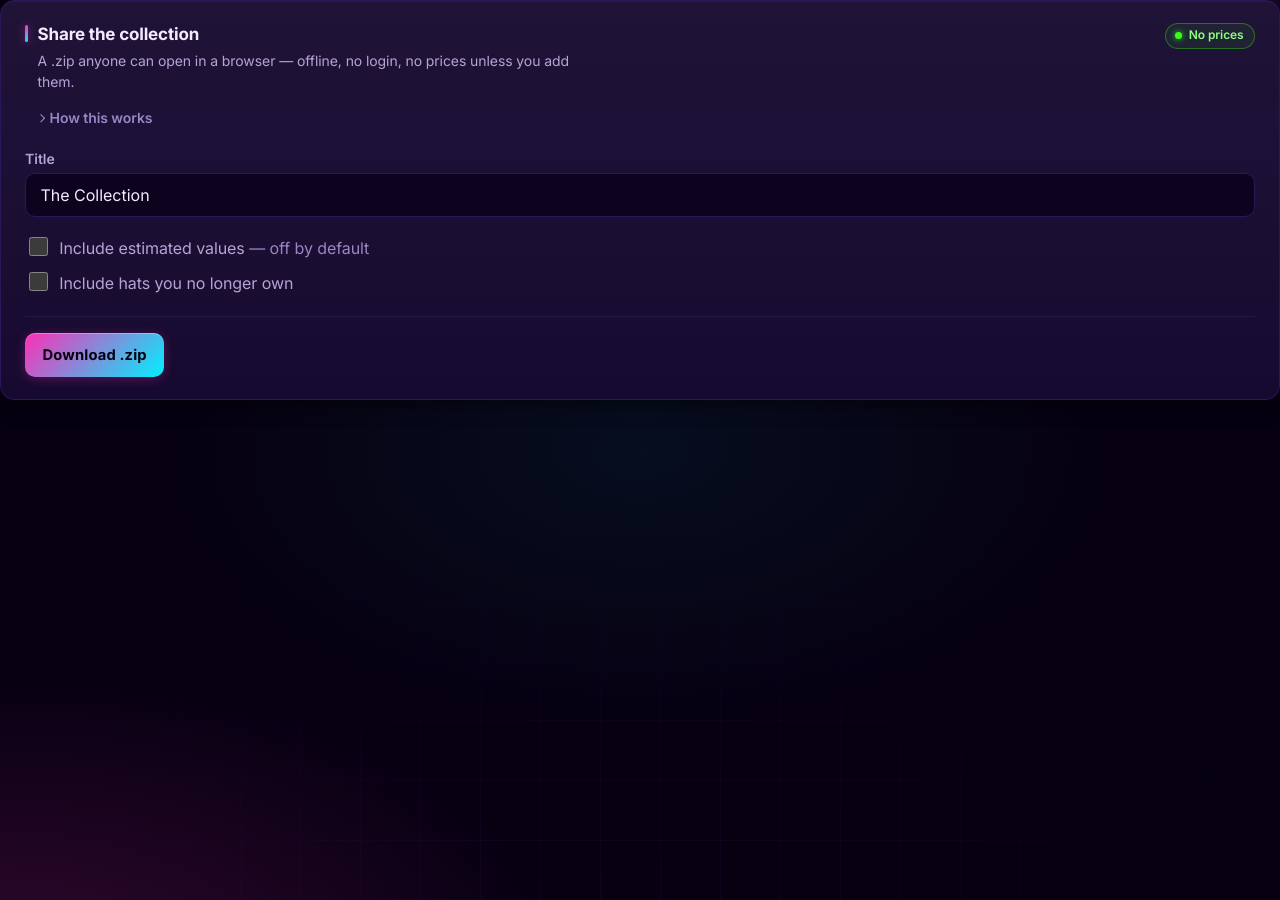
CollectionExportCard › leads with whether the money goes in, and follows the checkbox
This screenshot has width=1280, height=900.
Check: the text "No prices" is shown, box [1165,23,1255,49]
What coordinates should you click on to do the following:
click the checkbox labelled "Include estimated values — off by default"
I would click on:
 (39, 247)
Its box is [29,237,48,256].
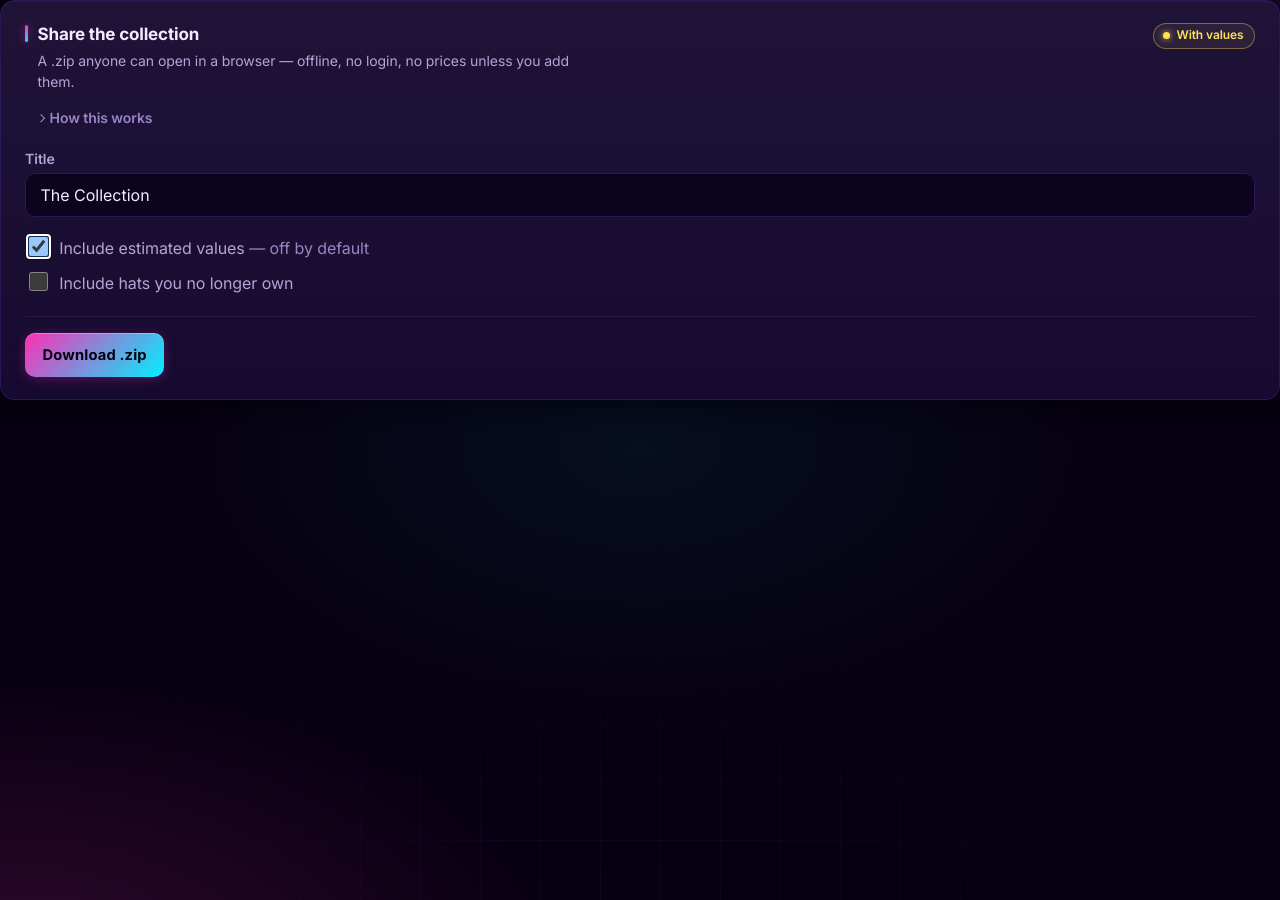
Check: the text "With values" is shown, box [1153,23,1255,49]
